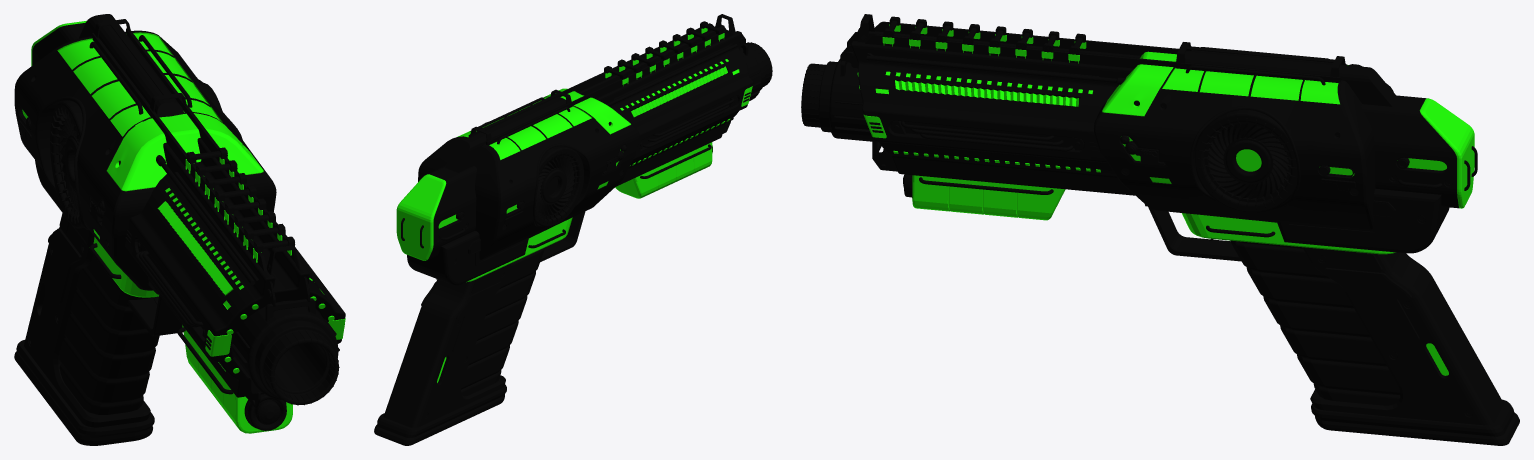
The model's file is Gun.fbx.
3 renders of one model, left to right at view 1: azimuth 30°, elevation 25°; view 2: azimuth 150°, elevation 25°; view 3: azimuth 270°, elevation 25°, orthographic. The views are drawn at different scales.
Parts seen in each view (by area): view 1: Gun; view 2: Gun; view 3: Gun.
Part boxes in pixels (x1=…): Gun: x1=14, y1=14, x2=345, y2=445; Gun: x1=374, y1=14, x2=772, y2=445; Gun: x1=801, y1=14, x2=1519, y2=445.
Size of the model in its own units: 448 by 732 by 1336.
